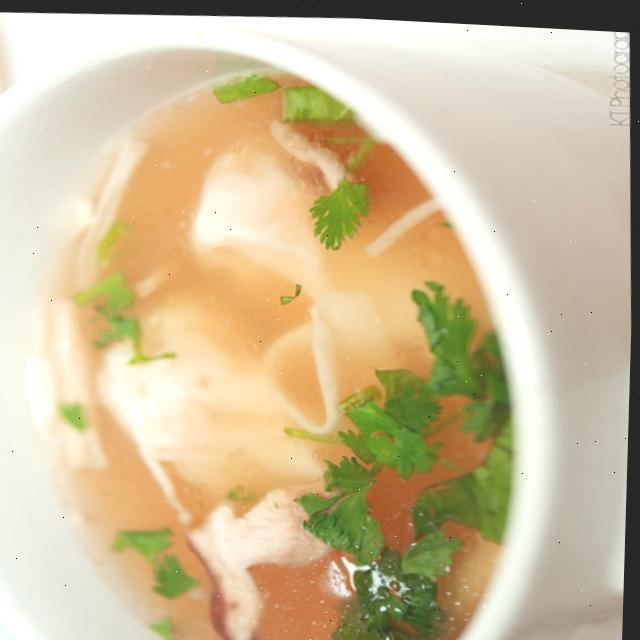汤锅炖物: (12, 22, 562, 640)
